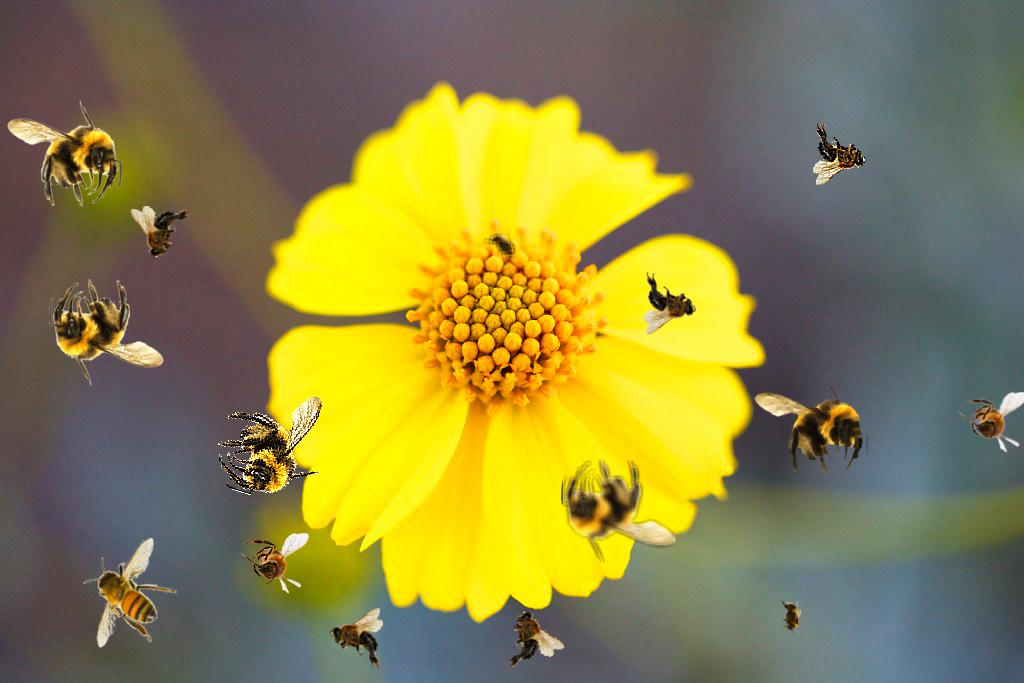Bee: (206, 371, 343, 514), (49, 279, 164, 386), (753, 373, 868, 480), (561, 458, 676, 565), (7, 100, 122, 207), (83, 537, 177, 648), (489, 601, 566, 673), (239, 533, 309, 594), (957, 392, 1024, 453), (813, 123, 866, 185), (330, 608, 383, 670), (643, 272, 696, 334), (131, 206, 193, 259), (481, 223, 525, 269), (780, 597, 802, 637)
